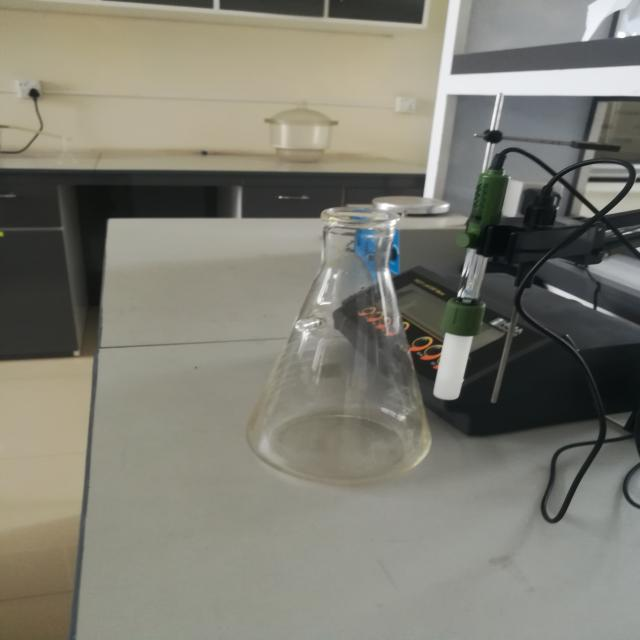Conical_Flask: (220, 173, 483, 520)
